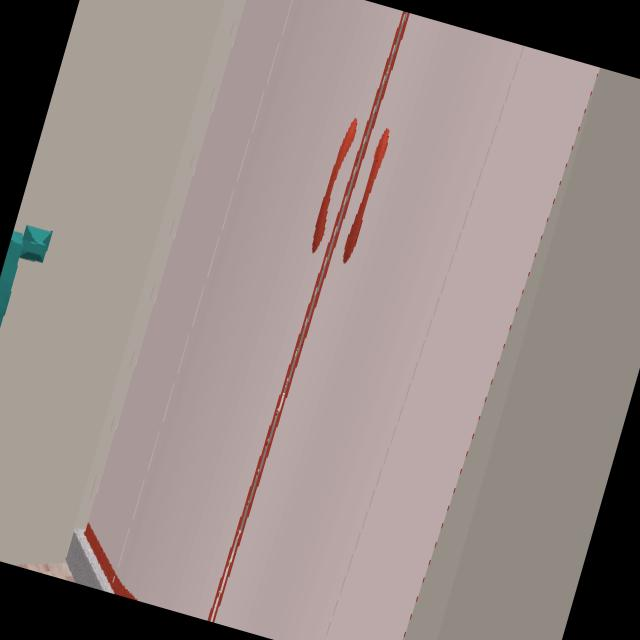shower: (66, 0, 600, 640)
